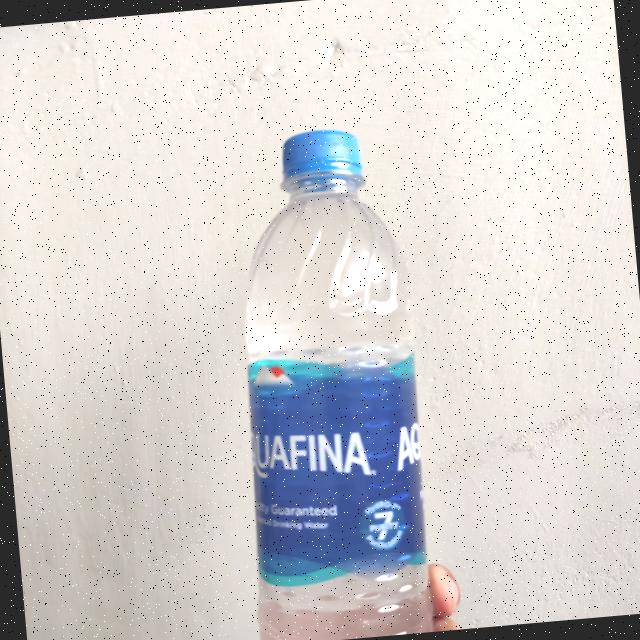bottle: (222, 112, 438, 640)
cap: (277, 126, 366, 196)
label: (247, 350, 433, 604)
